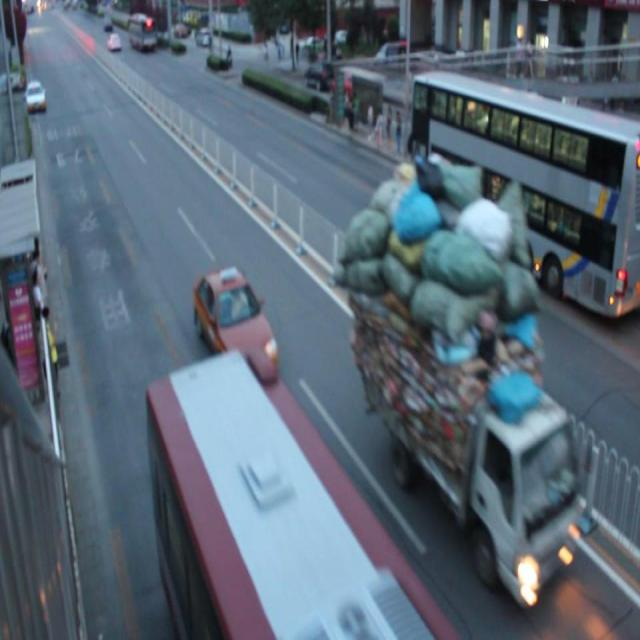bus: (369, 156, 577, 597)
car: (193, 266, 279, 380)
van: (148, 359, 460, 640), (410, 72, 640, 316)
